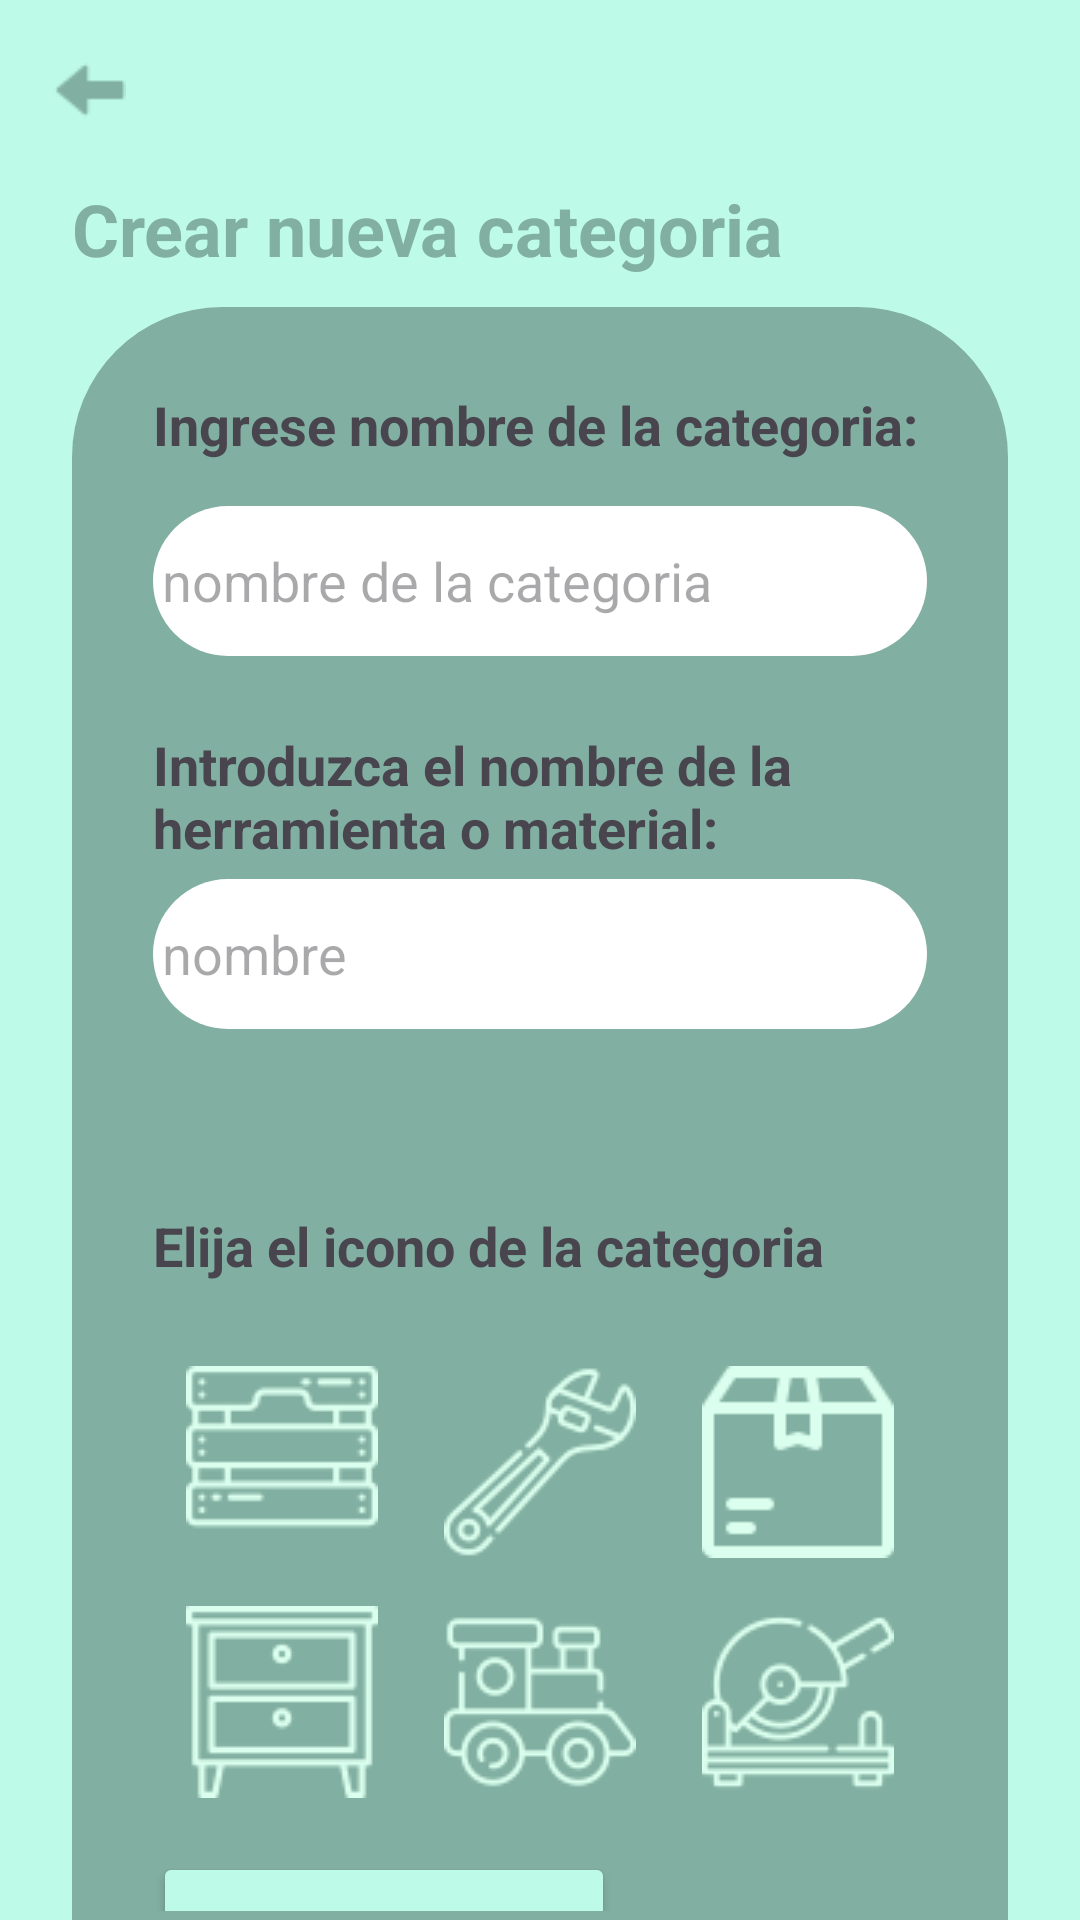

Point at icon controls on the screen. Image size 1080w x 1920h, points as point (x, y).
caja: point (798, 1462)
corte: point (798, 1702)
izquierda: point (90, 90)
juguete: point (540, 1702)
llave: point (540, 1462)
mesita: point (282, 1702)
